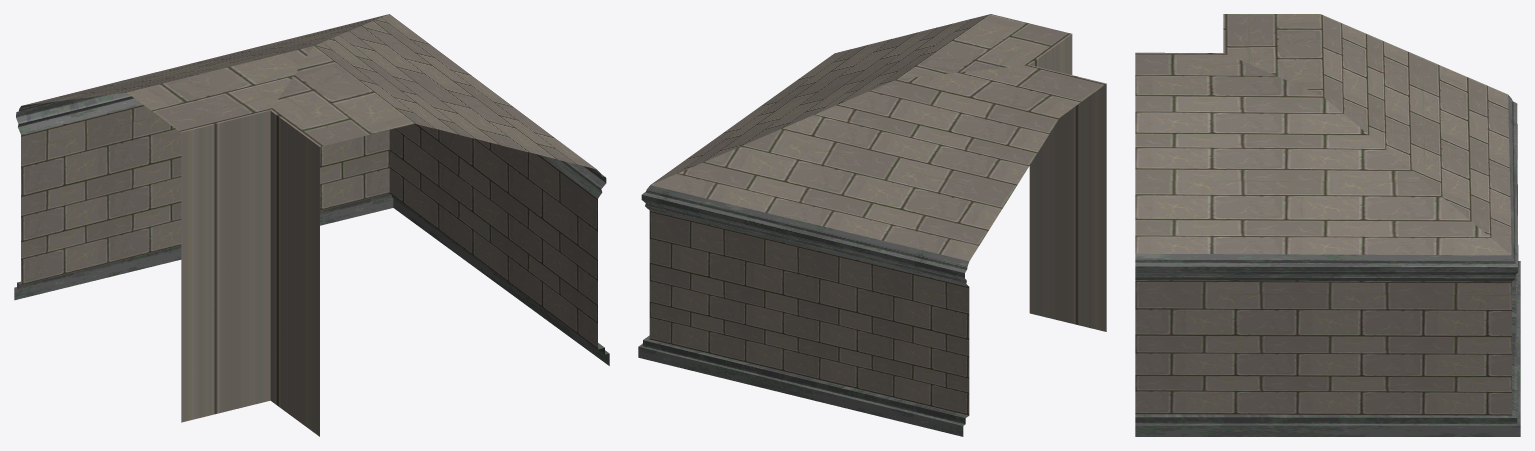
File: h5_qiang_03.FBX
The picture shows the model from 3 angles, left to right: view 1: azimuth 30°, elevation 25°; view 2: azimuth 150°, elevation 25°; view 3: azimuth 270°, elevation 25°; orthographic projection. The views are drawn at different scales.
Parts seen in each view (by area): view 1: h5_qiang_03; view 2: h5_qiang_03; view 3: h5_qiang_03.
Boxes of the visible parts, <box> form: h5_qiang_03: <box>14,14,609,436</box>; h5_qiang_03: <box>638,14,1106,436</box>; h5_qiang_03: <box>1135,14,1520,436</box>.
Bounding box in the file's own units: 15.35 × 11.22 × 15.17.
2 materials, 2 textured.
